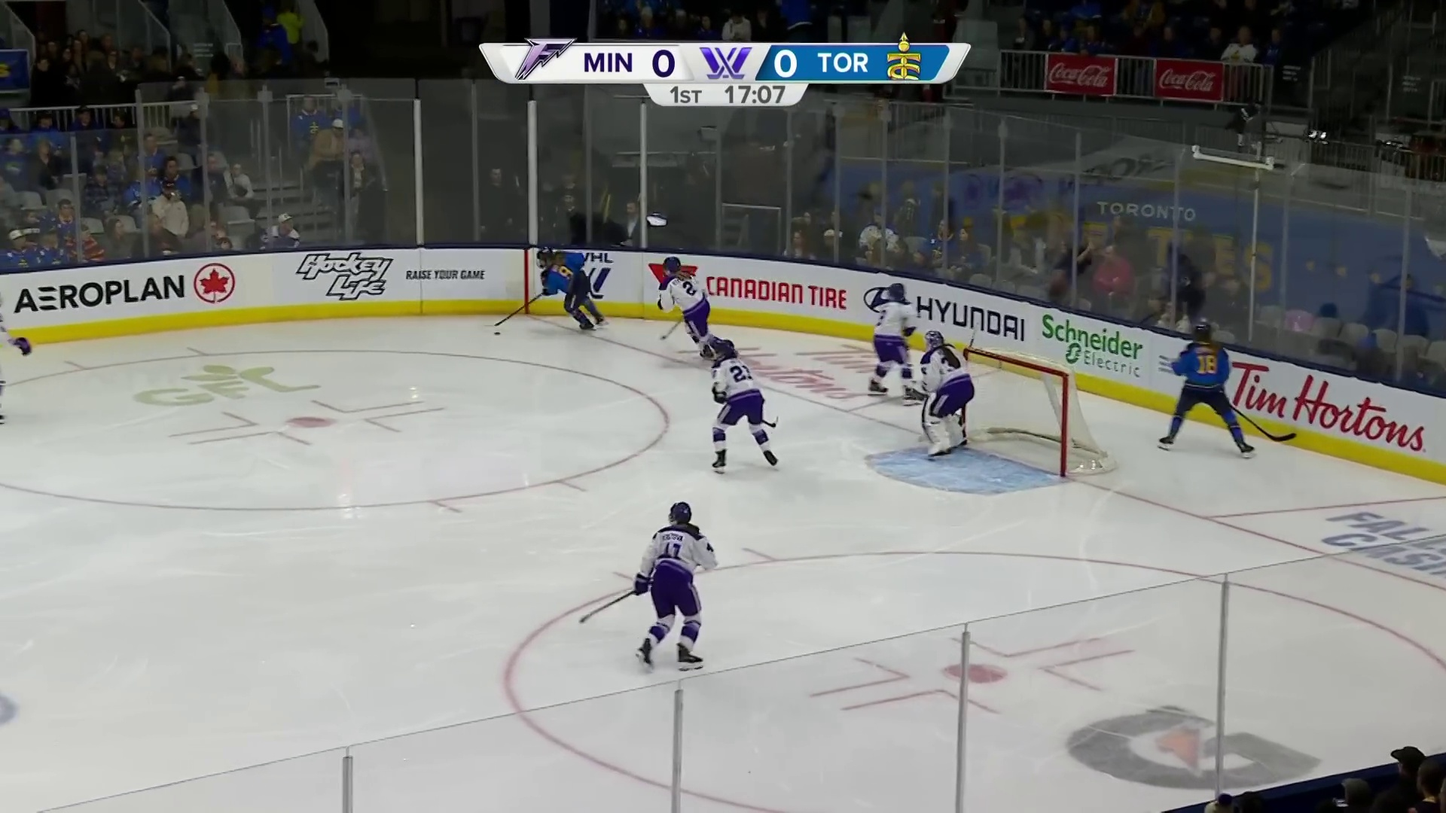goalkeeper: (917, 329, 975, 459)
player: (632, 500, 720, 673), (1156, 320, 1255, 459), (711, 337, 782, 473), (657, 256, 736, 356), (867, 281, 922, 402), (536, 245, 609, 332)
